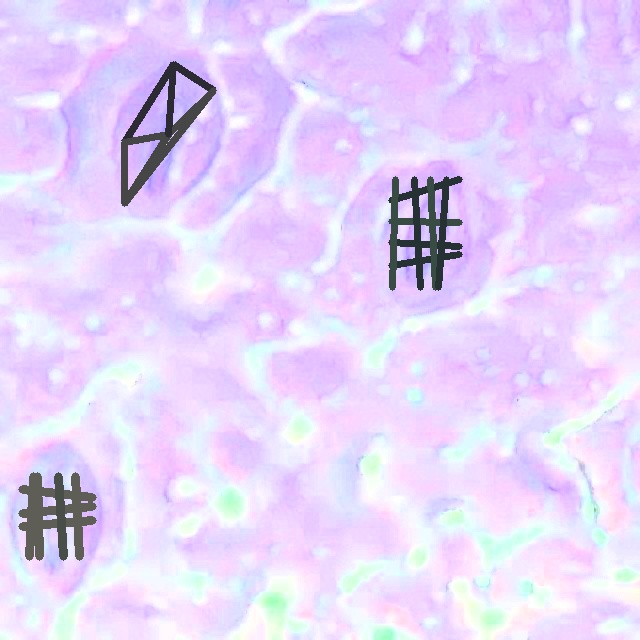open: (121, 61, 216, 206), (388, 176, 462, 290), (19, 473, 96, 560)
